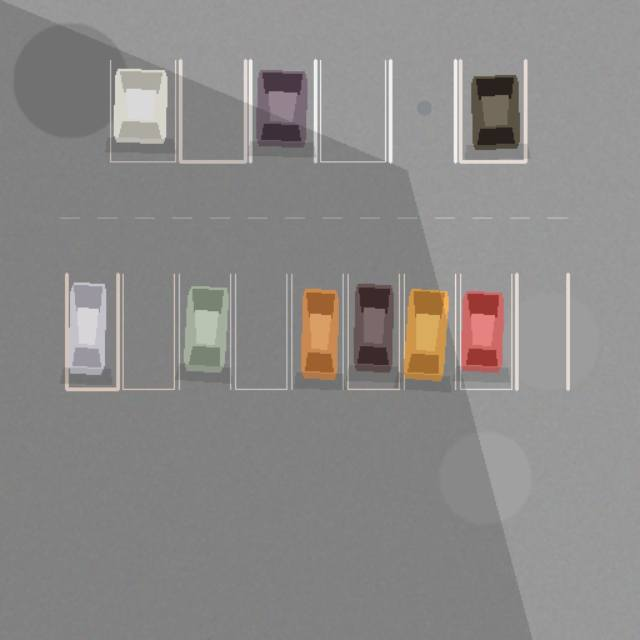space-empty: (180, 60, 245, 161), (320, 60, 385, 161), (390, 60, 455, 161), (122, 274, 174, 389), (516, 274, 568, 389), (235, 274, 286, 389)
space-occupied: (110, 60, 175, 161), (250, 60, 315, 161), (460, 60, 525, 161), (66, 274, 118, 389), (179, 274, 230, 389), (291, 274, 342, 389), (348, 274, 399, 389), (404, 274, 455, 389), (460, 274, 511, 389)
